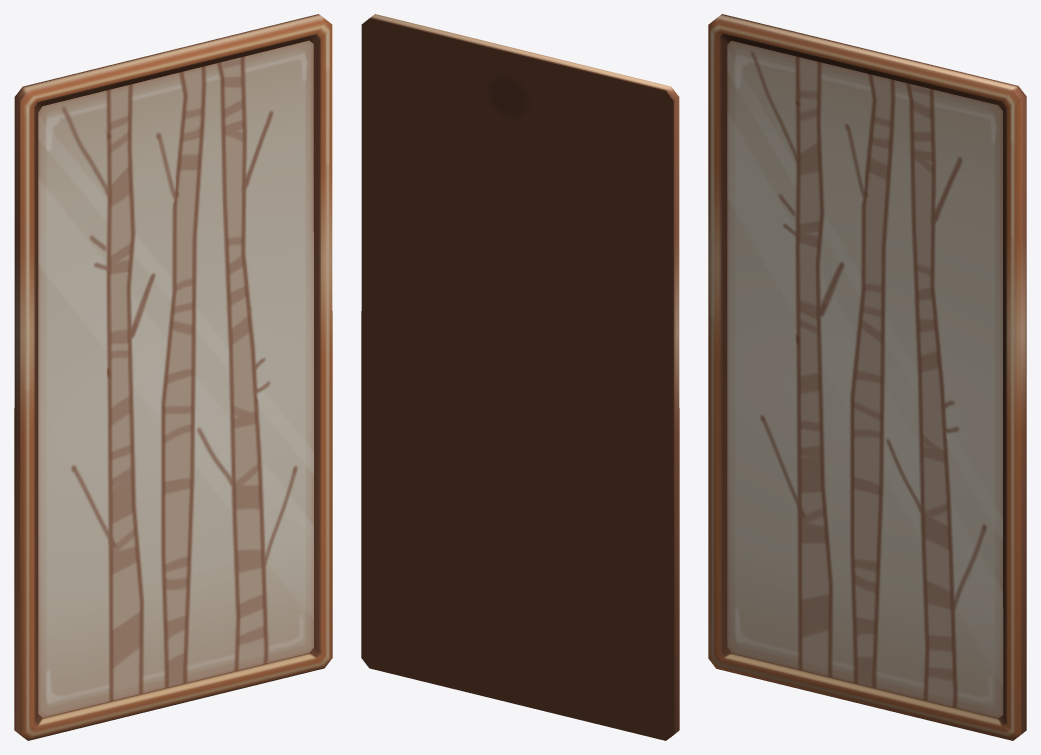
The model's file is bathroom_painting_frame_1.fbx.
3 views of the same model, side by side, from view 1: azimuth 30°, elevation 25°; view 2: azimuth 150°, elevation 25°; view 3: azimuth 330°, elevation 25° (orthographic).
Visible parts, largest first — view 1: bathroom_painting_frame_1; view 2: bathroom_painting_frame_1; view 3: bathroom_painting_frame_1.
Part boxes in pixels (<box>): bathroom_painting_frame_1: <box>14,14,332,740</box>; bathroom_painting_frame_1: <box>361,14,679,740</box>; bathroom_painting_frame_1: <box>708,14,1026,740</box>.
Bounding box in the file's own units: 17.47 × 34.75 × 0.7442.
